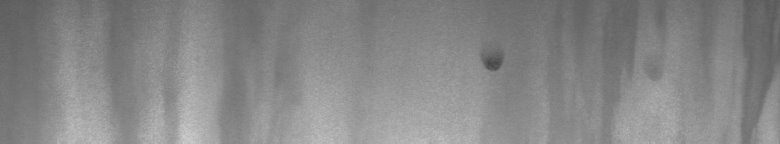fi: (480, 53, 508, 78)
